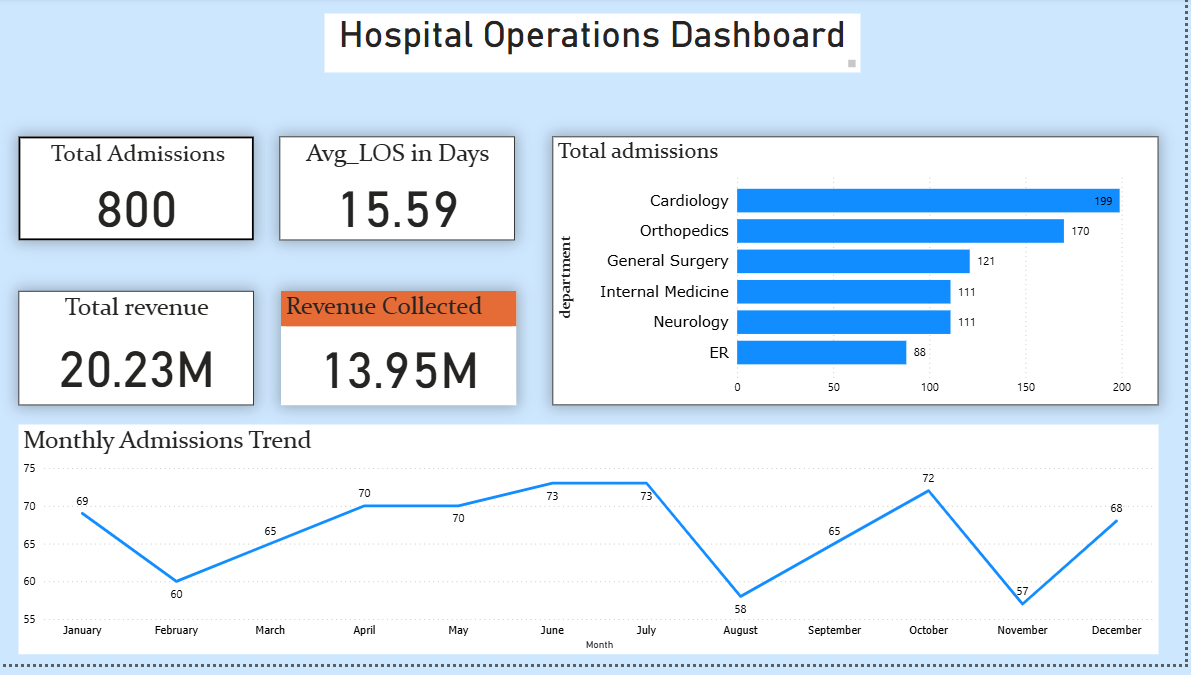

What the dashboard file says about the page in this screenshot:
{"tool":"powerbi","page":{"name":"Hospital Operations Overview","canvas":[1280,720],"ordinal":0},"visuals":[{"type":"card","title":"Total Admissions","fields":{"Values":["CountNonNull(public admissions.admission_id)"]},"box":[21,150.6,254.2,111.7],"z":0},{"type":"card","title":"Total revenue","fields":{"Values":["Sum(public billing.total_cost_usd)"]},"box":[21,317.4,254.2,123.1],"z":1000},{"type":"card","title":"Avg_LOS in Days","fields":{"Values":["Avg(public admissions.length_of_stay_days)"]},"box":[302.8,150.6,254.2,111.7],"z":2000},{"type":"lineChart","title":"Monthly Admissions Trend","fields":{"Category":["public admissions.admission_date.Variation.Date Hierarchy.Month"],"Y":["CountNonNull(public admissions.admission_id)"]},"box":[21,461.5,1230.6,247.7],"z":3000},{"type":"barChart","title":"Total admissions","fields":{"Category":["public admissions.department"],"Y":["CountNonNull(public admissions.admission_id)"]},"box":[597.5,150.6,654.2,289.8],"z":4000},{"type":"textbox","title":"Hospital Operations Dashboard","box":[351.4,17.8,578.1,63.1],"z":5000},{"type":"card","title":"Revenue Collected","fields":{"Values":["Sum(public billing.total_cost_usd)"]},"box":[304.4,317.4,254.2,123.1],"z":6000}]}

Visuals, with their boxes in screenshot pixels (x1, y1, x2, y2), scaled from the page's 1280x720 canvas onto the 1191x675 screenshot:
"Total Admissions" card: detection(20, 141, 256, 246)
"Total revenue" card: detection(20, 298, 256, 413)
"Avg_LOS in Days" card: detection(282, 141, 518, 246)
"Monthly Admissions Trend" lineChart: detection(20, 433, 1165, 665)
"Total admissions" barChart: detection(556, 141, 1165, 413)
"Hospital Operations Dashboard" textbox: detection(327, 17, 865, 76)
"Revenue Collected" card: detection(283, 298, 520, 413)
